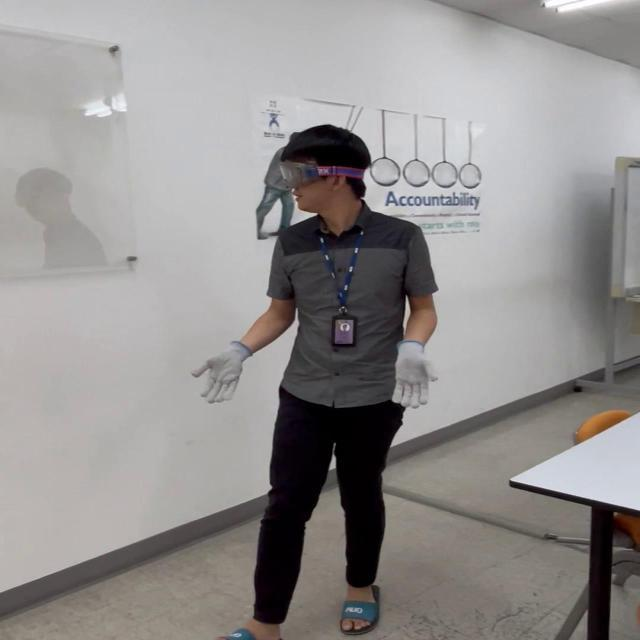gloved_hand: (386, 338, 440, 408), (191, 341, 252, 398)
